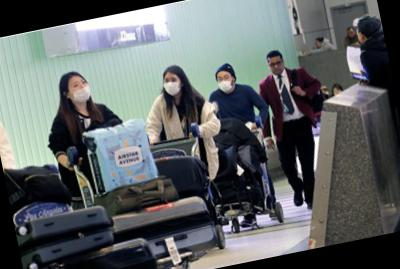with_mask: (67, 76, 93, 105), (162, 74, 183, 96), (216, 72, 235, 93)
without_mask: (269, 57, 285, 75), (347, 28, 358, 39)
